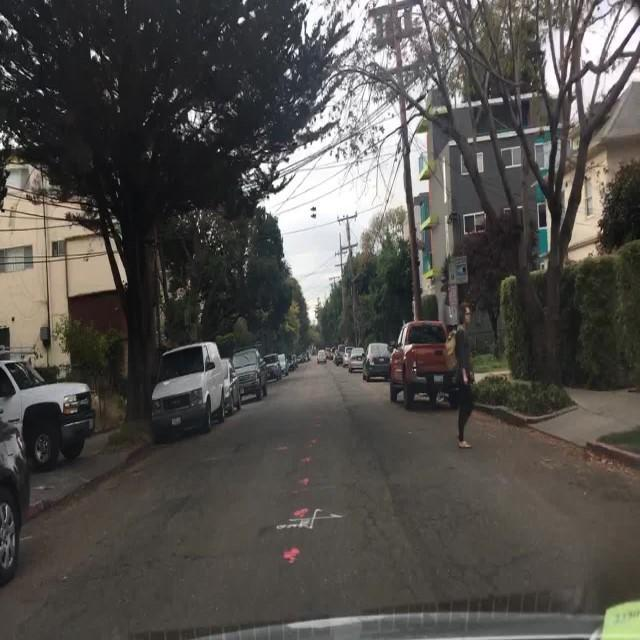normal: (135, 321, 297, 452)
